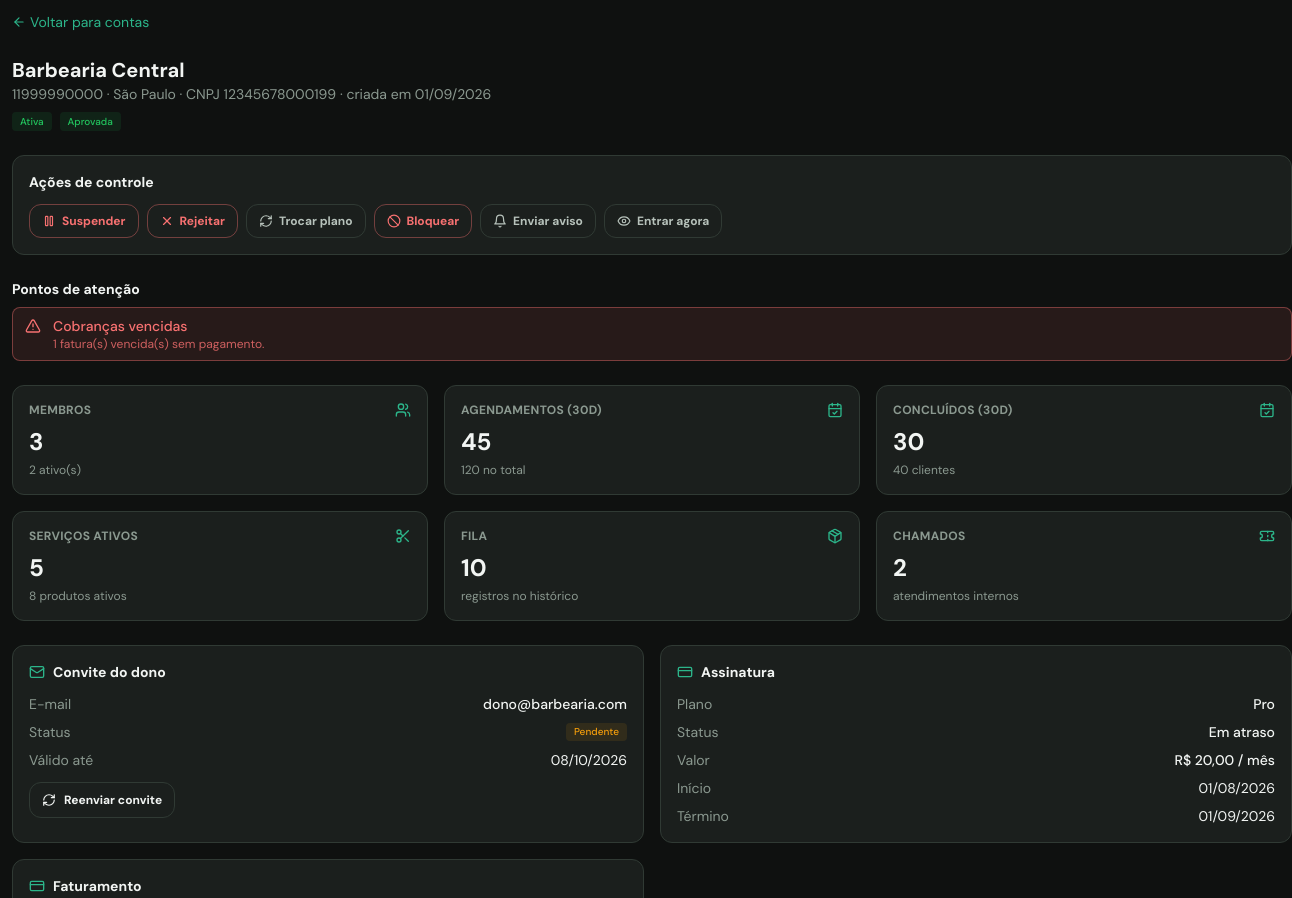
it: AccountDetailPage › exibe o convite do dono e reenvia quando solicitado
Check: the heading "Convite do dono" is shown, box [29,663,166,681]
Check: the text "dono@barbearia.com" is shown, box [483,694,627,714]
Click the button "Reenviar convite" at x=102, y=800, box [29,782,175,818]
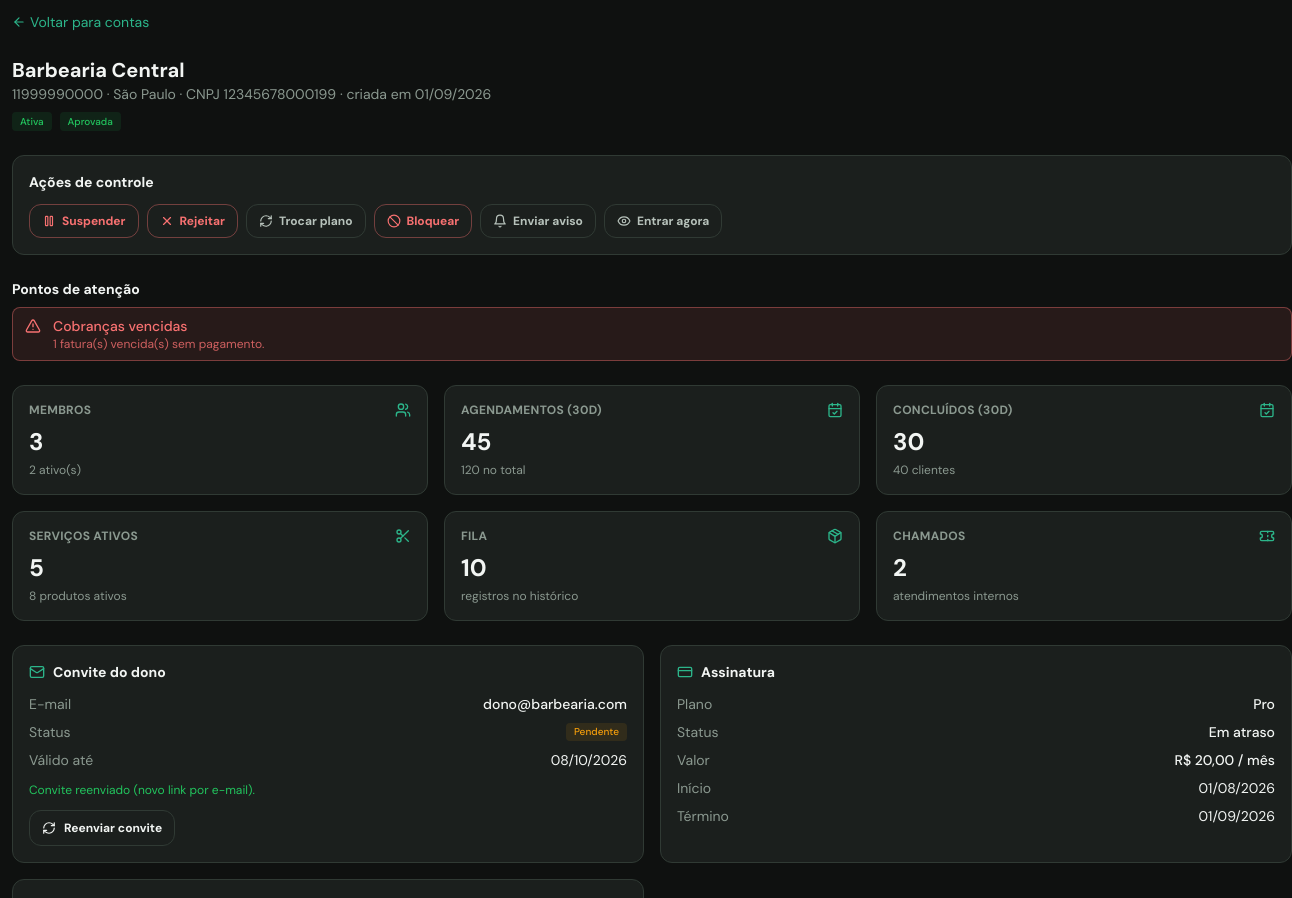
Check: the text "Convite reenviado (novo link por e-mail)." is shown, box [29,782,255,798]
